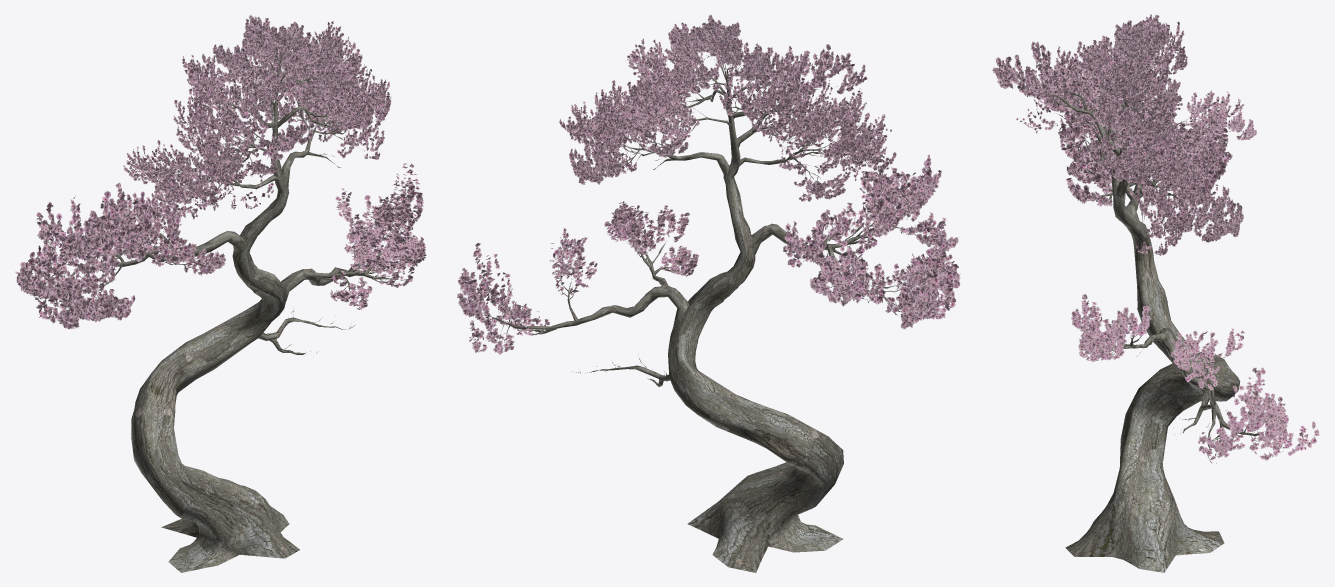
The model's file is forest-giant-oak.glb.
3 views of the same model, side by side, from view 1: azimuth 30°, elevation 25°; view 2: azimuth 150°, elevation 25°; view 3: azimuth 270°, elevation 25° (orthographic). The views are drawn at different scales.
Visible parts, largest first — view 1: Forest oak canopy, Forest oak bark; view 2: Forest oak canopy, Forest oak bark; view 3: Forest oak canopy, Forest oak bark.
Part boxes in pixels (left/top/right/bottom): Forest oak canopy: left=15, top=15, right=426, bottom=329; Forest oak bark: left=45, top=45, right=415, bottom=572; Forest oak canopy: left=457, top=15, right=960, bottom=354; Forest oak bark: left=478, top=49, right=942, bottom=572; Forest oak canopy: left=992, top=14, right=1319, bottom=460; Forest oak bark: left=1023, top=47, right=1302, bottom=572.
Size of the model in its own units: 0.9043 by 1 by 0.5457.
2 materials, 2 textured.
